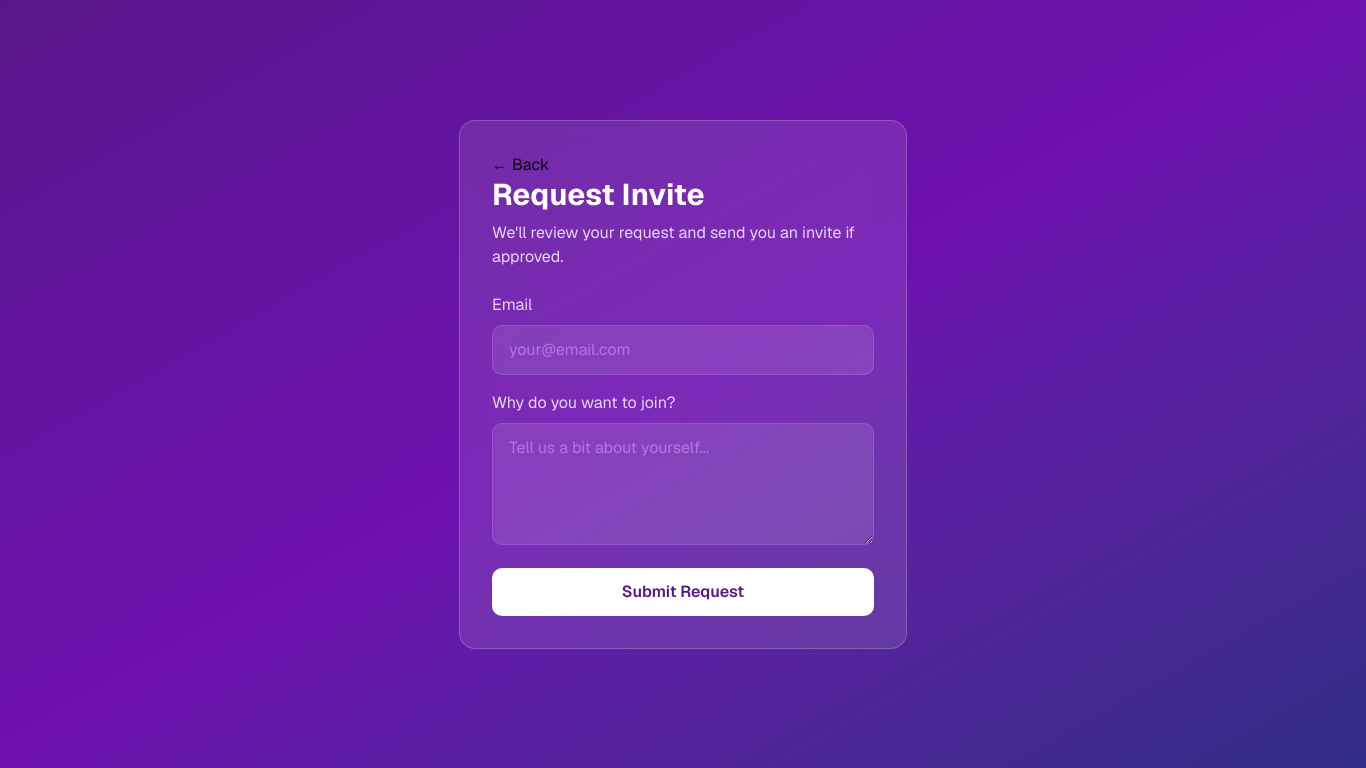
it: RequestInvitePage › shows error for duplicate email
This screenshot has width=1366, height=768.
Step 1. Type "duplicate@example.com" into the field labelled "Email" → (683, 350), box [492,324,874,374]
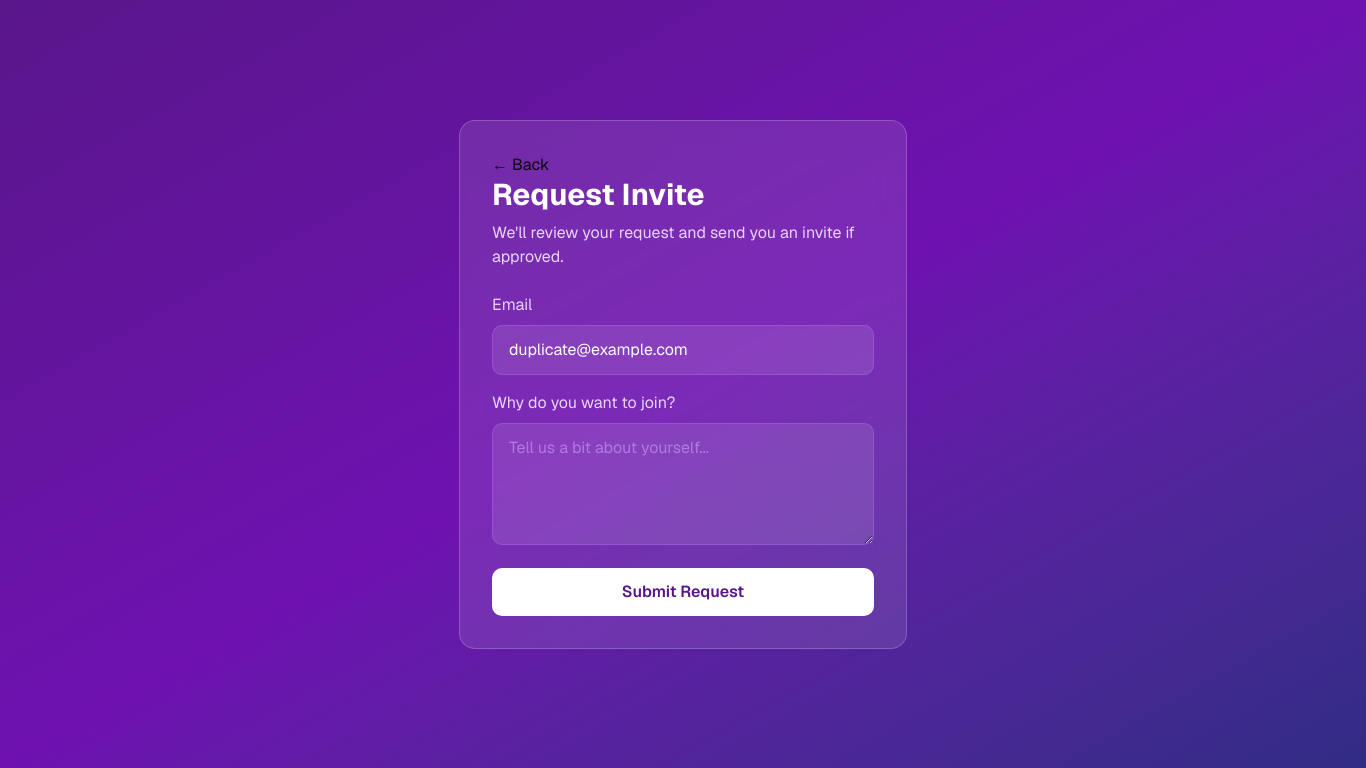
Step 2. Click the button "Submit Request" → (683, 592), box [492,568,874,616]
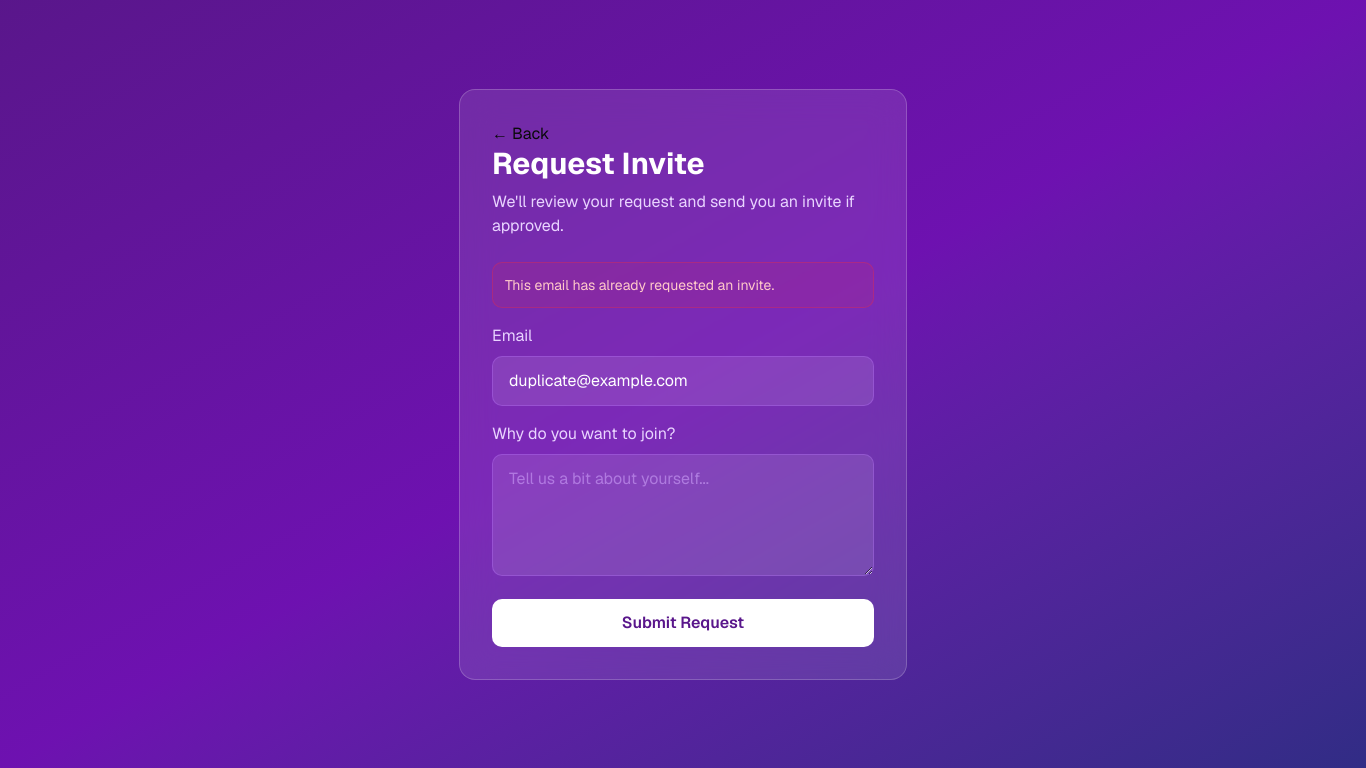
Expected: the text "This email has already requested an invite." is shown, [492,262,874,308]
